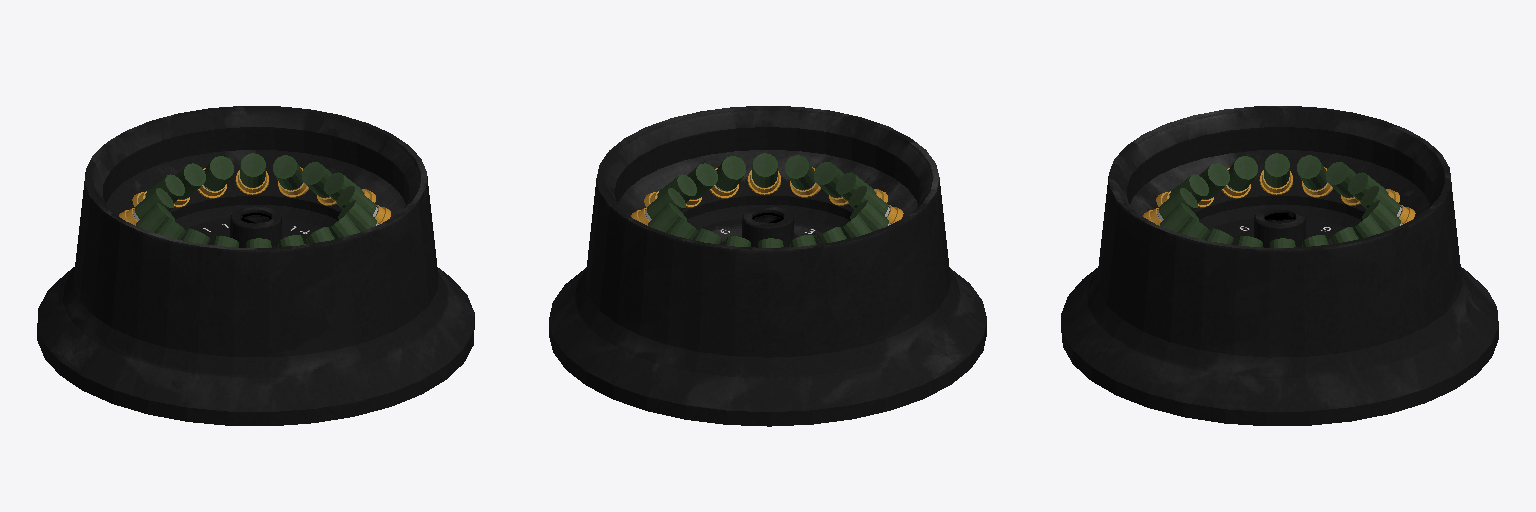
3 renders of one model, left to right at view 1: azimuth 30°, elevation 25°; view 2: azimuth 150°, elevation 25°; view 3: azimuth 270°, elevation 25°, orthographic.
Parts seen in each view (by area): view 1: CI_Centrifuge_vial_holder Copy; view 2: CI_Centrifuge_vial_holder Copy; view 3: CI_Centrifuge_vial_holder Copy.
Part boxes in pixels (left/top/right/bottom): CI_Centrifuge_vial_holder Copy: left=37, top=106, right=474, bottom=425; CI_Centrifuge_vial_holder Copy: left=549, top=106, right=986, bottom=426; CI_Centrifuge_vial_holder Copy: left=1061, top=106, right=1498, bottom=425.
Size of the model in its own units: 2.98 by 1.17 by 2.98.
Materials: 1 (1 with a texture image).